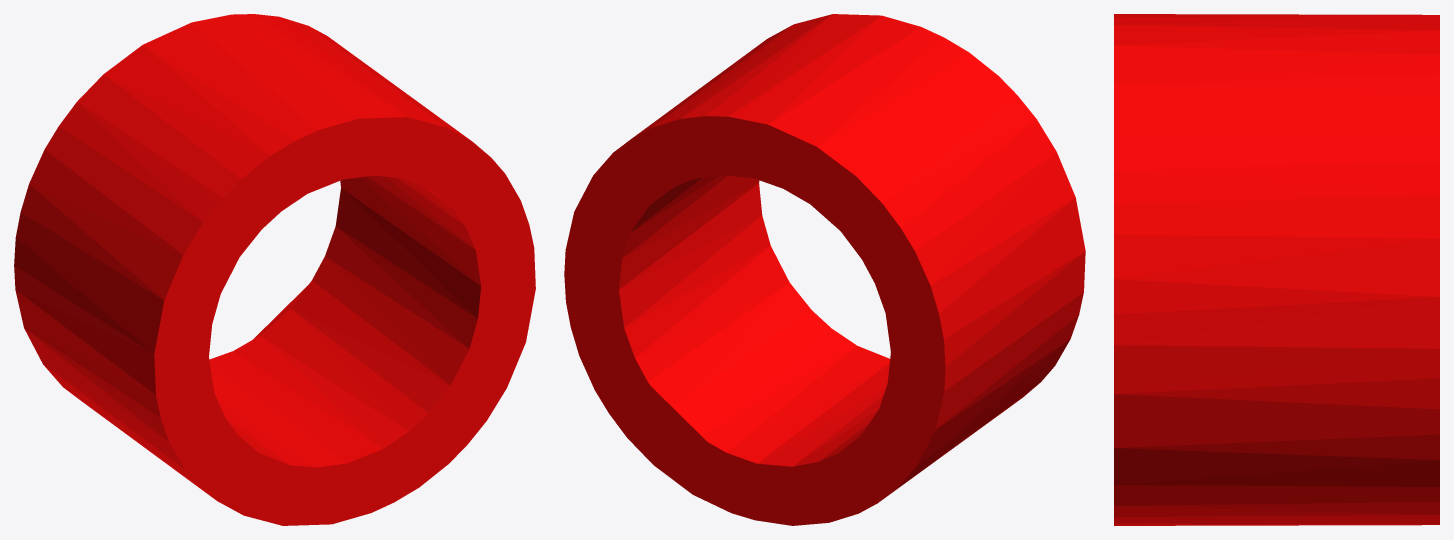
File: left_arm_2_hand_1_x4_2_outer_1.glb
The picture shows the model from 3 angles, left to right: view 1: azimuth 30°, elevation 25°; view 2: azimuth 150°, elevation 25°; view 3: azimuth 270°, elevation 25°; orthographic projection. The views are drawn at different scales.
Visible parts, largest first — view 1: left_arm_2_hand_1_x4_2_outer_1.obj; view 2: left_arm_2_hand_1_x4_2_outer_1.obj; view 3: left_arm_2_hand_1_x4_2_outer_1.obj.
Part boxes in pixels (box(x1,y1,x2,y2)): left_arm_2_hand_1_x4_2_outer_1.obj: box(14, 14, 535, 525); left_arm_2_hand_1_x4_2_outer_1.obj: box(564, 14, 1085, 525); left_arm_2_hand_1_x4_2_outer_1.obj: box(1114, 14, 1439, 525).
Bounding box in the file's own units: 0.0534 × 0.0534 × 0.034.
